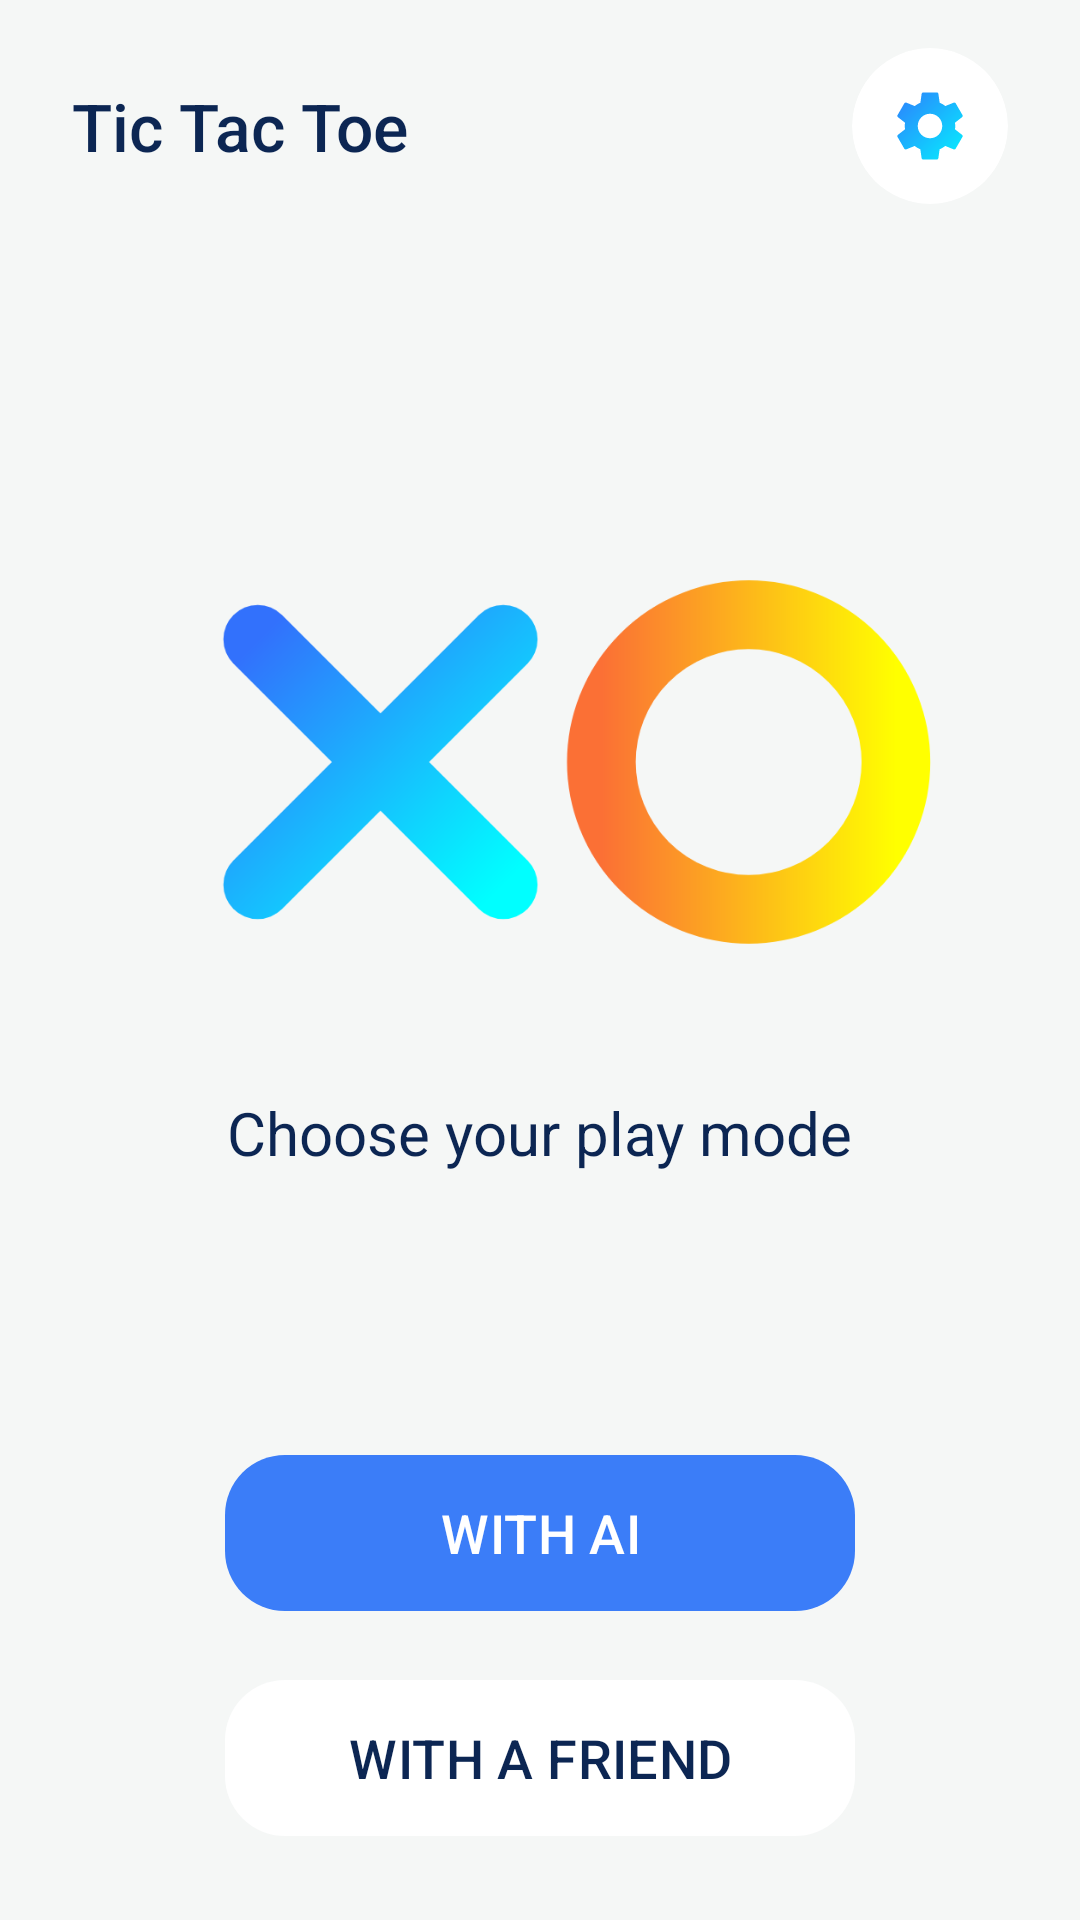

Point at icon controls on the screen. Image size 1080px×1920px, points as [x,y].
Settings: [930,126]
